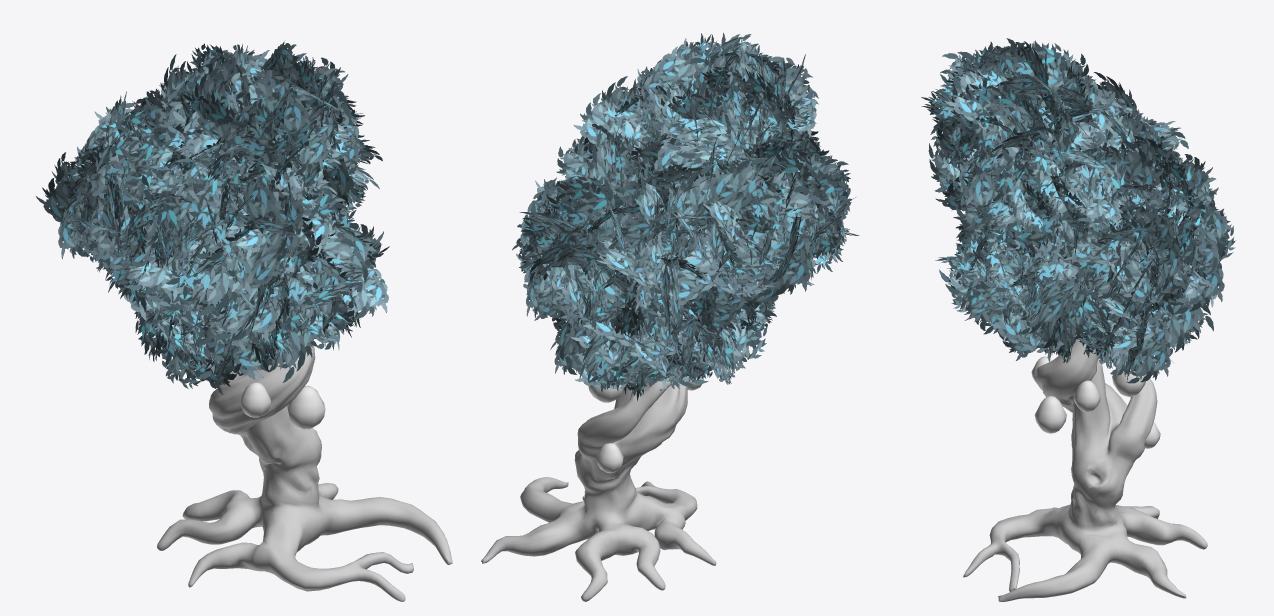
Rendered from HollowTreeFruitUpdate.fbx.
3 renders of one model, left to right at view 1: azimuth 30°, elevation 25°; view 2: azimuth 150°, elevation 25°; view 3: azimuth 270°, elevation 25°, orthographic. The views are drawn at different scales.
Parts seen in each view (by area): view 1: HallowTreeBlue_032, HollowTreeNew2, Sphere_002, Sphere_001; view 2: HallowTreeBlue_032, HollowTreeNew2, Sphere_005; view 3: HallowTreeBlue_032, HollowTreeNew2, Sphere_002, Sphere_003, Sphere_004.
Boxes of the visible parts, bbox=[...] form: HallowTreeBlue_032: bbox=[36, 41, 389, 394]; HollowTreeNew2: bbox=[157, 345, 452, 601]; Sphere_002: bbox=[287, 385, 325, 429]; Sphere_001: bbox=[240, 382, 270, 417]; HallowTreeBlue_032: bbox=[512, 32, 859, 400]; HollowTreeNew2: bbox=[481, 310, 716, 601]; Sphere_005: bbox=[596, 443, 623, 473]; HallowTreeBlue_032: bbox=[921, 38, 1235, 383]; HollowTreeNew2: bbox=[963, 75, 1207, 601]; Sphere_002: bbox=[1035, 396, 1066, 433]; Sphere_003: bbox=[1073, 380, 1100, 412]; Sphere_004: bbox=[1112, 366, 1145, 396].
Size of the model in its own units: 568 by 858 by 536.
